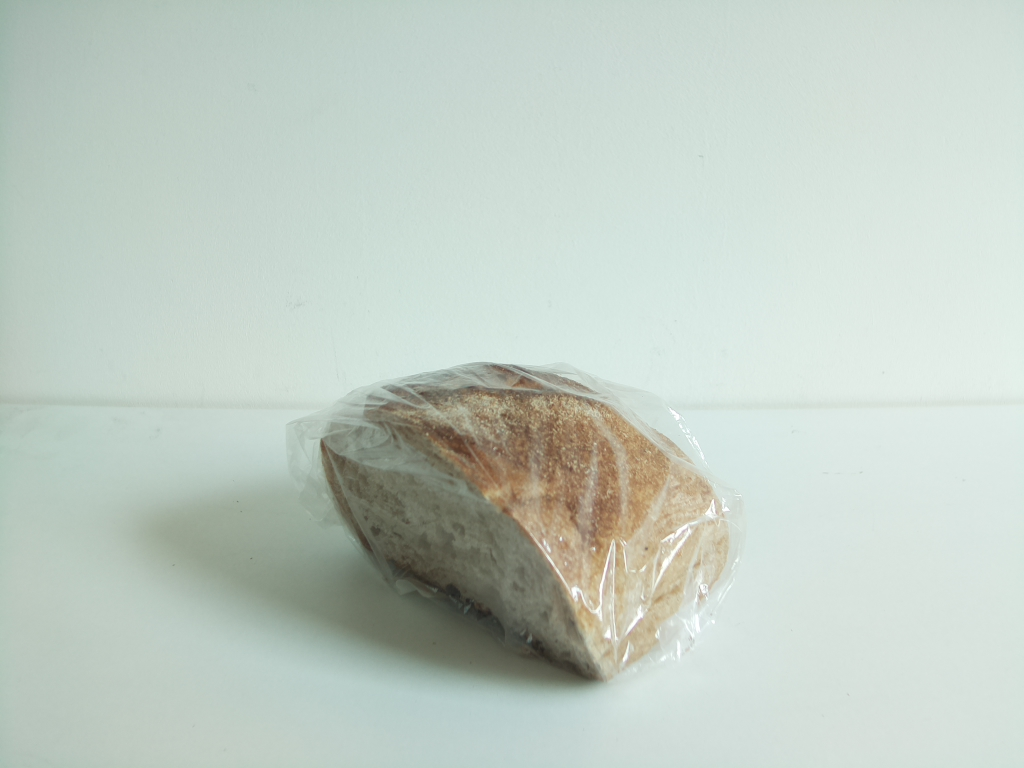bread: (319, 366, 736, 691)
